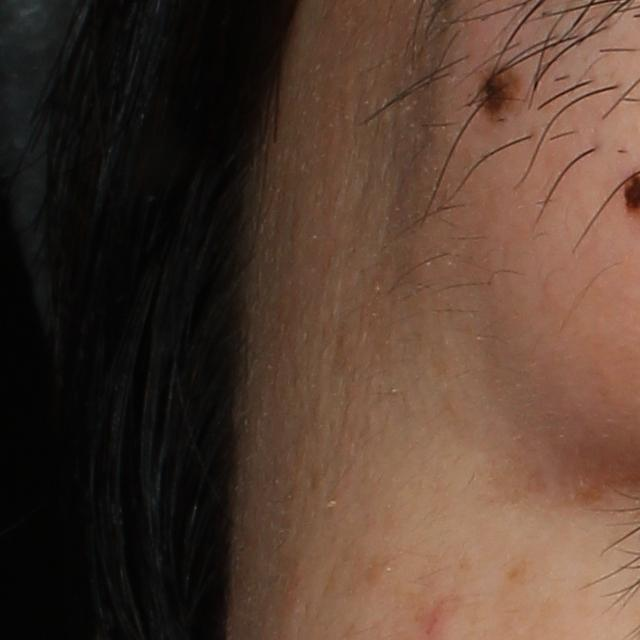nevus: (468, 61, 529, 125)
